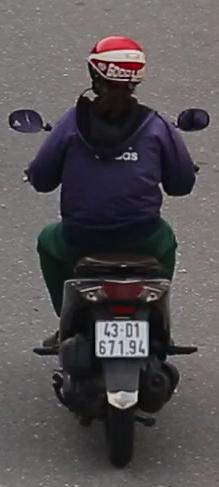LP: (93, 315, 151, 359)
helmet: (84, 29, 149, 108)
